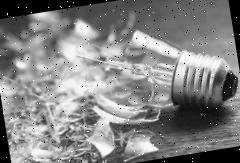lightbulb: (73, 14, 240, 130), (83, 115, 118, 160)
